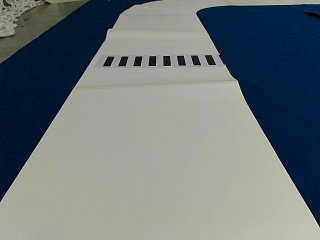crosswalk: (101, 53, 214, 68)
